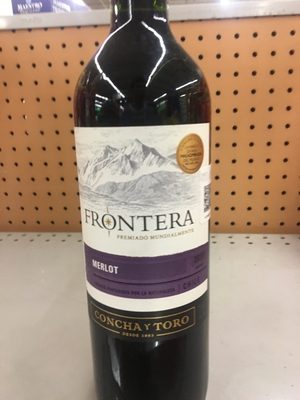frontera merlot: (76, 20, 223, 400)
